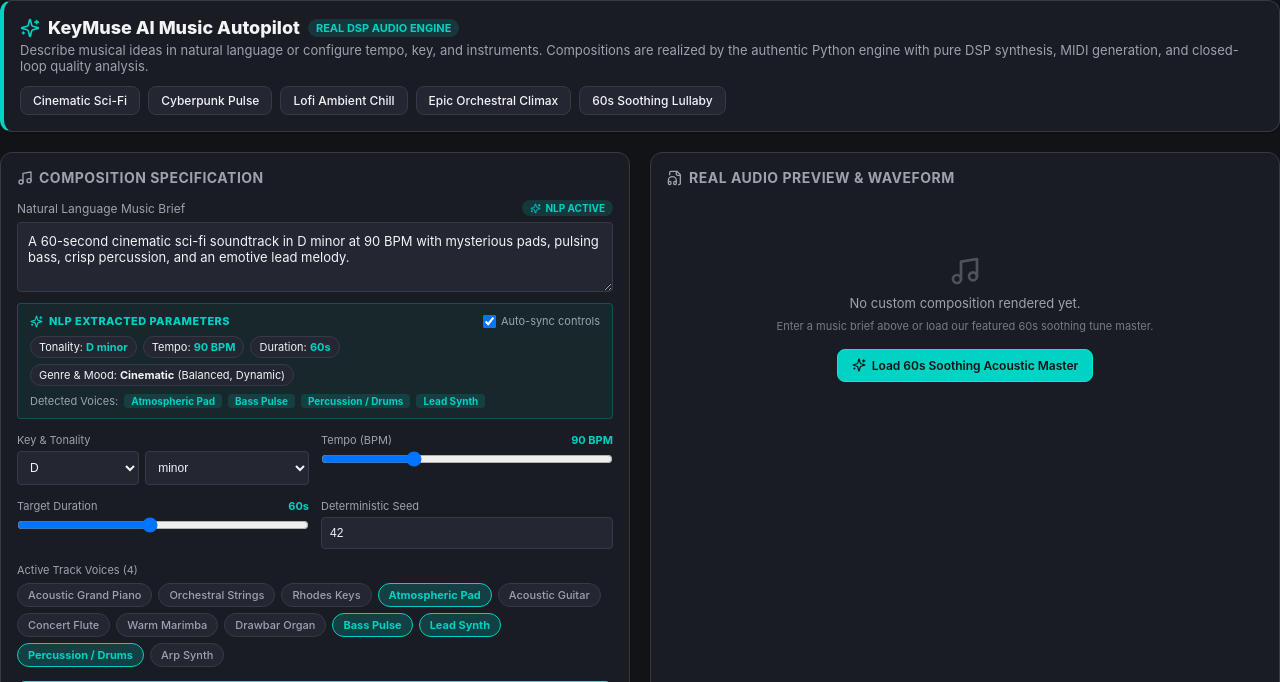
Test: AiStudio Component › allows toggling instrument voices
Note: Toggle off
Click the button "Atmospheric Pad" at [435, 595], box [378,583,492,607]
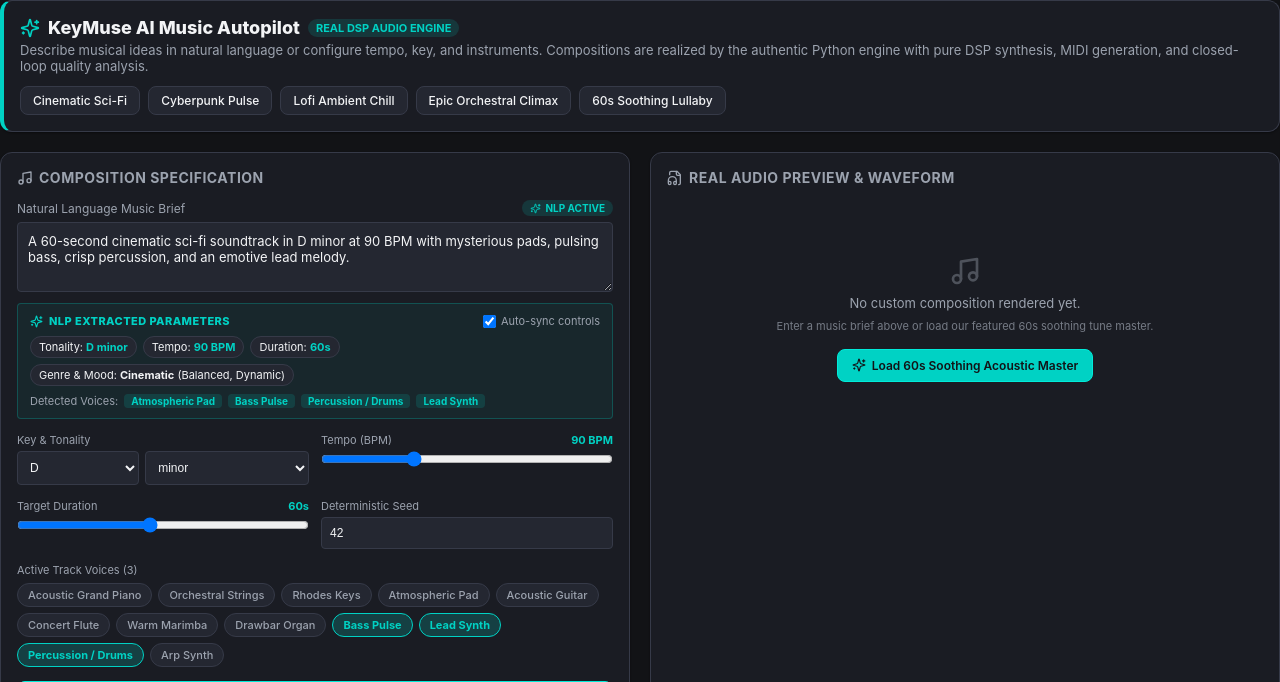
Note: Toggle back on
Click the button "Atmospheric Pad" at [434, 595], box [378,583,490,607]
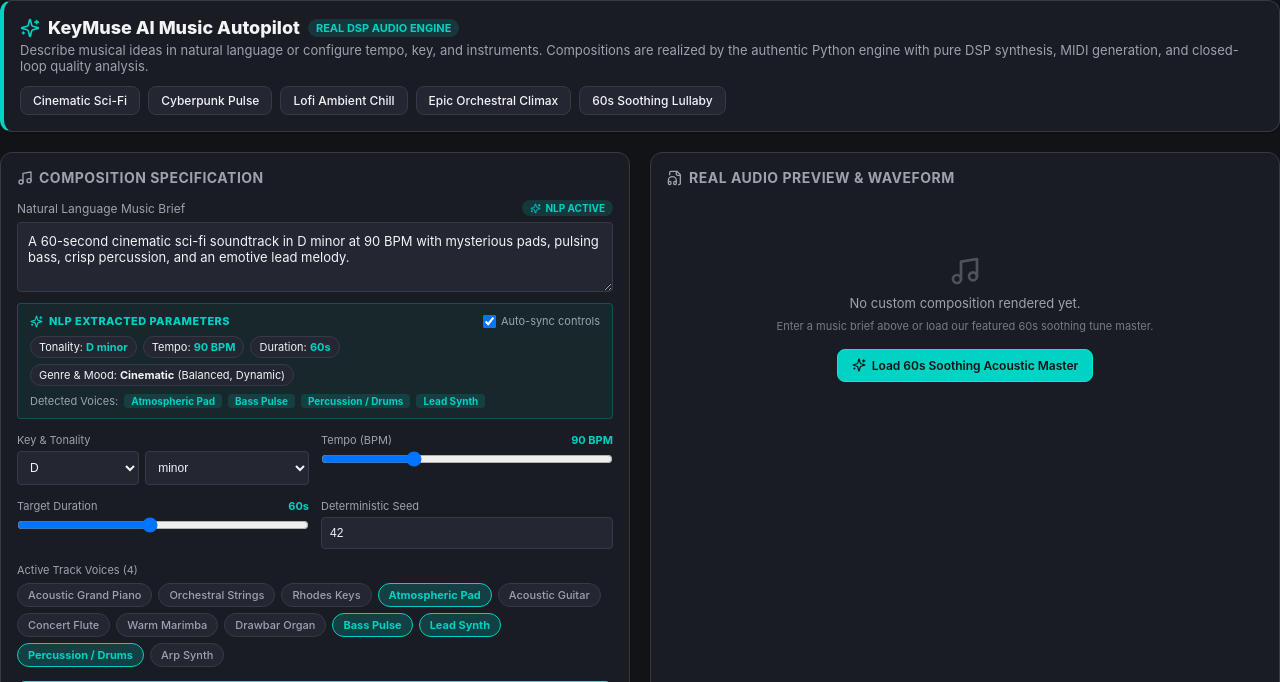
Now the text "Active Track Voices (4)" is shown, box [17,563,138,577]
